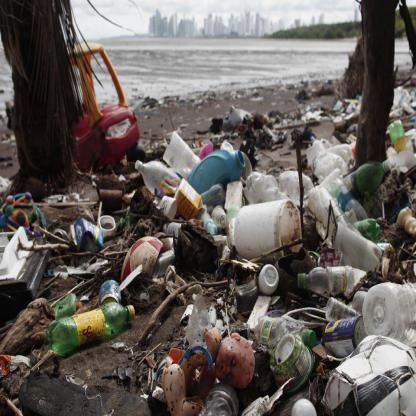Metal: (98, 272, 125, 306)
Plastic: (44, 304, 144, 354), (226, 200, 303, 261), (359, 283, 416, 335), (184, 146, 248, 191), (266, 333, 314, 392), (252, 306, 319, 345), (296, 260, 370, 292), (134, 150, 178, 202), (343, 159, 398, 196)
Trash: (296, 171, 349, 230), (305, 124, 356, 178)
